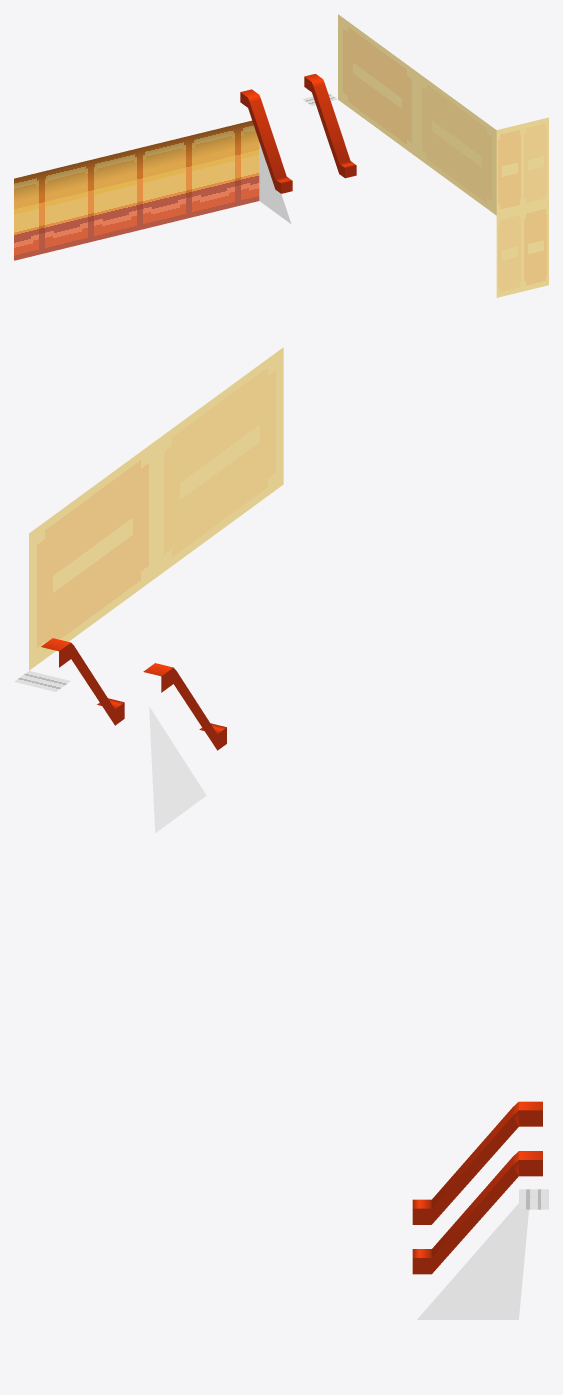
Rendered from hgss-piece-221-mur-bas-est.glb.
The picture shows the model from 3 angles, top to bottom: view 1: azimuth 30°, elevation 25°; view 2: azimuth 150°, elevation 25°; view 3: azimuth 270°, elevation 25°; orthographic projection. The views are drawn at different scales.
Size of the model in its own units: 14.38 by 6.12 by 11.12.
Materials: 5 (4 with a texture image).
